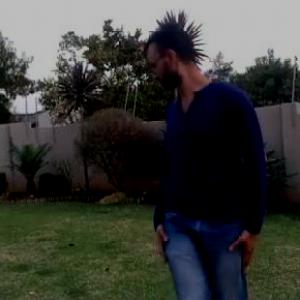follow: (141, 3, 271, 299)
